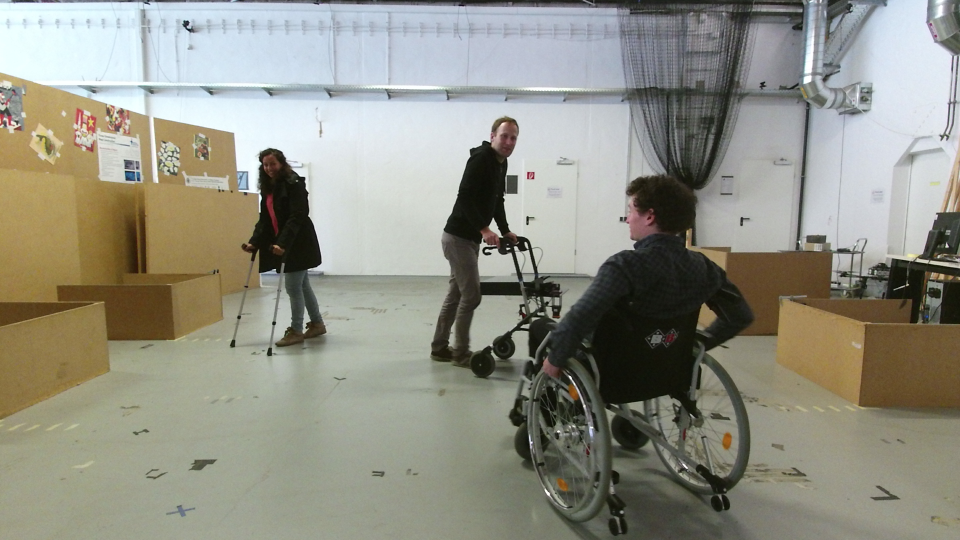crutches: (226, 142, 329, 355)
wheelchair: (504, 163, 762, 540)
